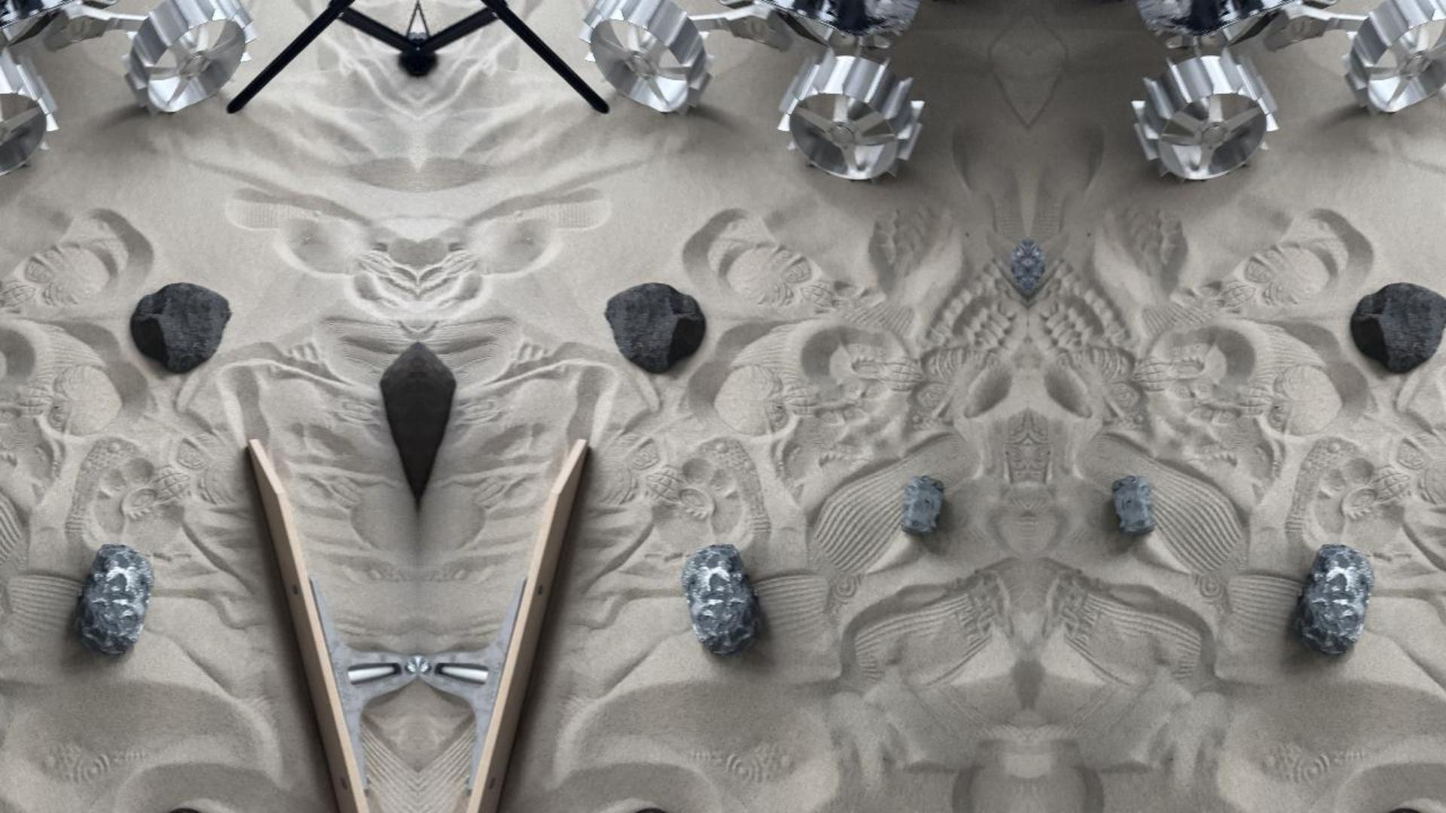rock: (604, 282, 705, 373), (73, 544, 154, 656), (130, 282, 230, 371), (1295, 544, 1374, 656), (680, 544, 758, 656), (1350, 282, 1445, 371), (1112, 474, 1155, 533), (900, 475, 943, 533)
